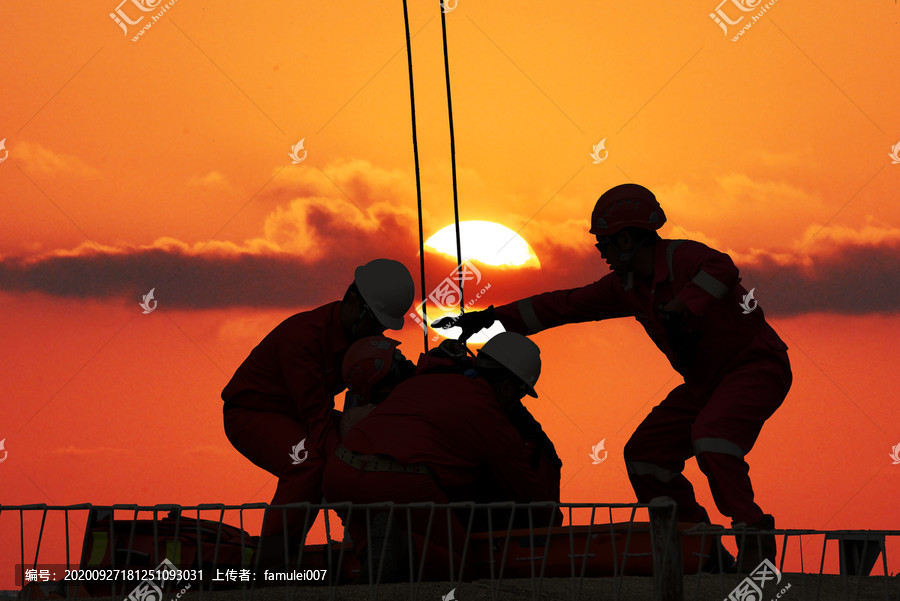safetyhat: (560, 164, 799, 551), (234, 239, 413, 469), (422, 328, 574, 525)
